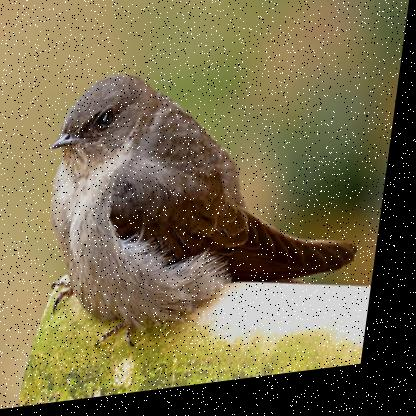Burung: (34, 51, 388, 363)
